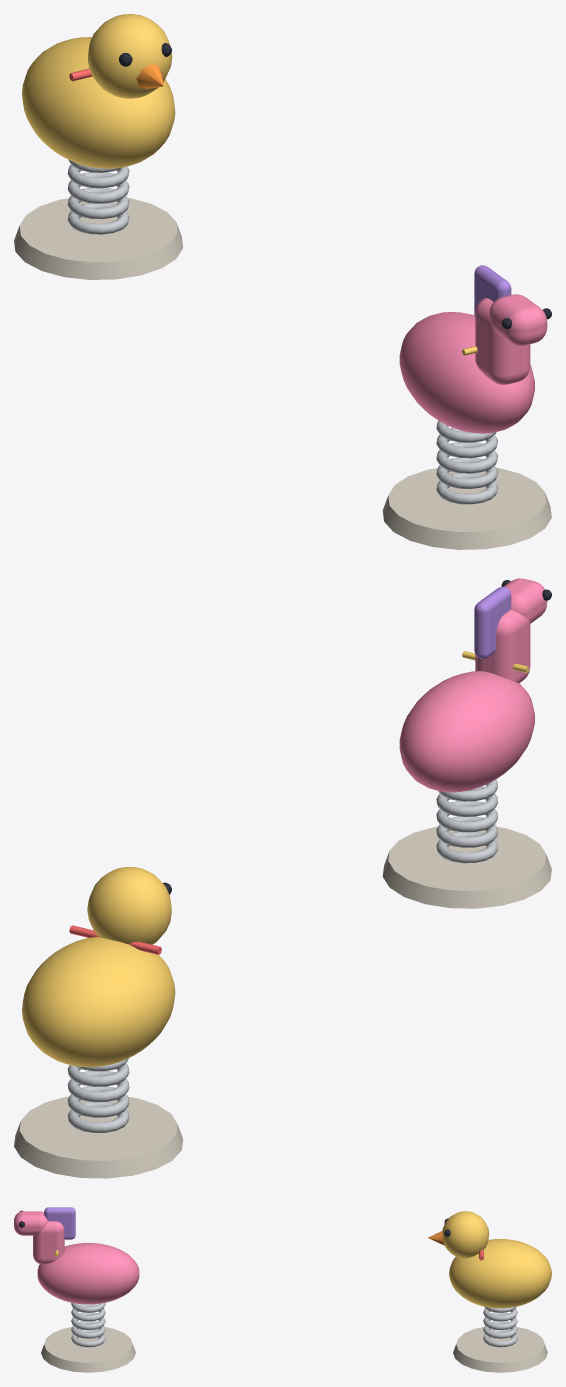
File: kspring.glb
The picture shows the model from 3 angles, top to bottom: view 1: azimuth 30°, elevation 25°; view 2: azimuth 150°, elevation 25°; view 3: azimuth 270°, elevation 25°; orthographic projection. The views are drawn at different scales.
Size of the model in its own units: 0.6 by 1.01 by 3.39.
